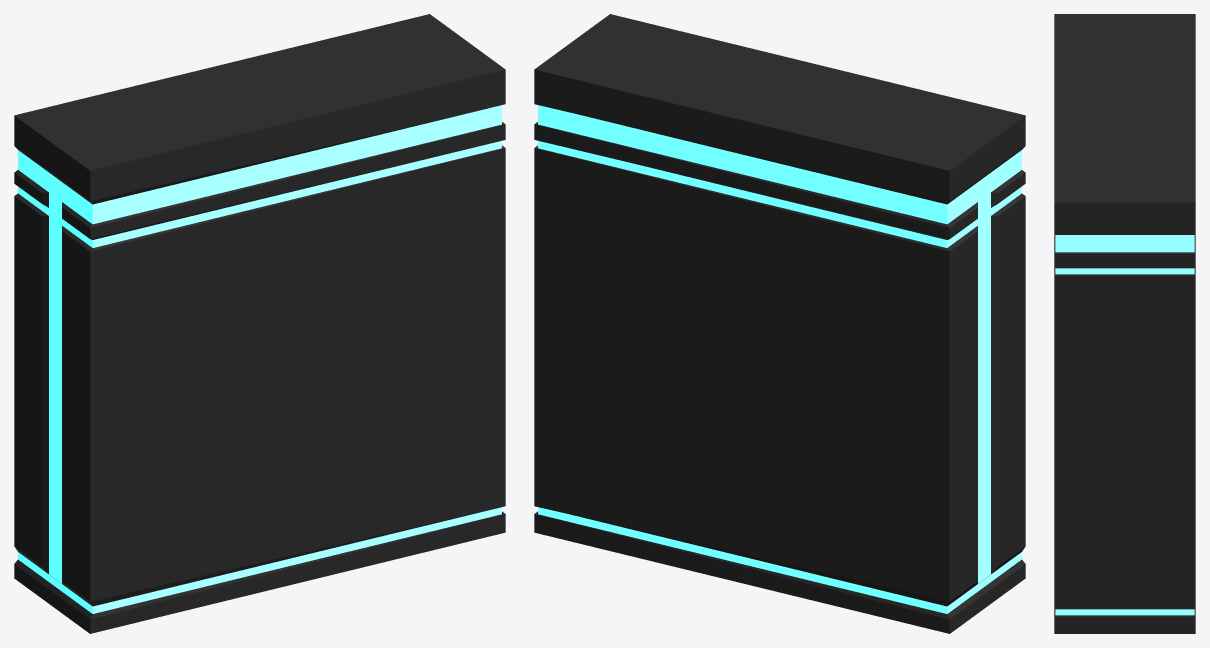
File: High wall 1L.fbx
3 renders of one model, left to right at view 1: azimuth 30°, elevation 25°; view 2: azimuth 150°, elevation 25°; view 3: azimuth 270°, elevation 25°, orthographic. The views are drawn at different scales.
Parts seen in each view (by area): view 1: High Wall 1L; view 2: High Wall 1L; view 3: High Wall 1L.
Boxes of the visible parts, x1,y1,x2,y2 form: High Wall 1L: (14,14,505,633); High Wall 1L: (534,14,1025,633); High Wall 1L: (1054,14,1195,633).
Bounding box in the file's own units: 614 × 194 × 654.
